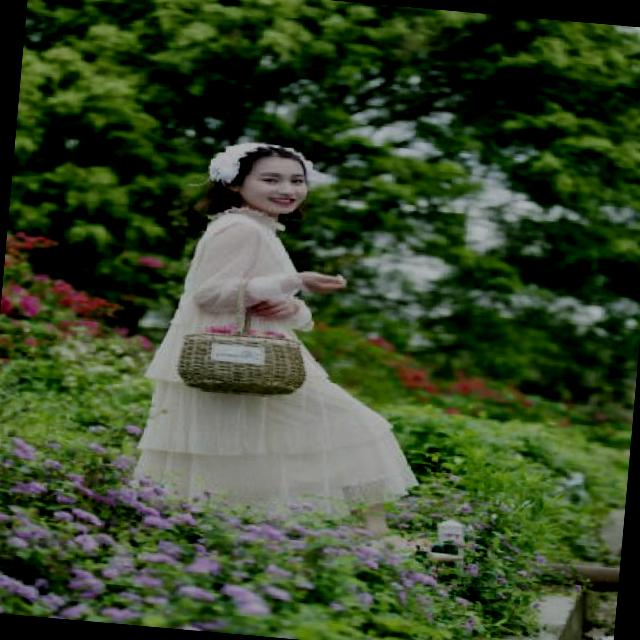Person: (102, 93, 480, 554)
